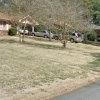Tree: (34, 0, 100, 43)
